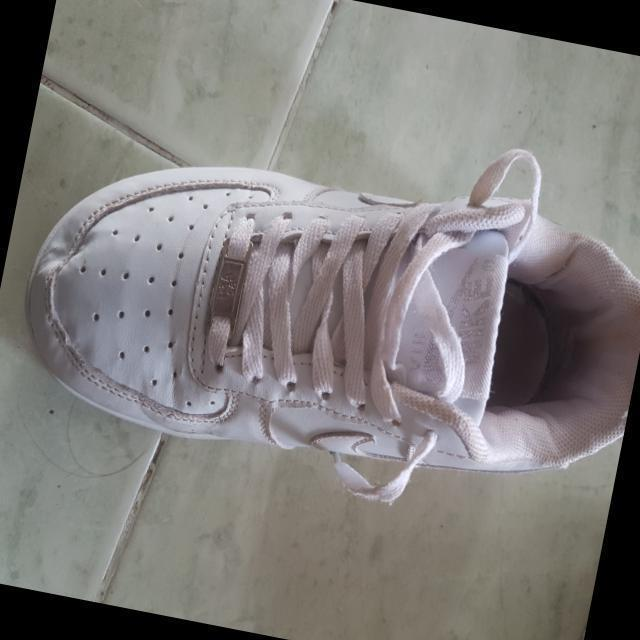nike fake air force: (3, 113, 640, 508)
